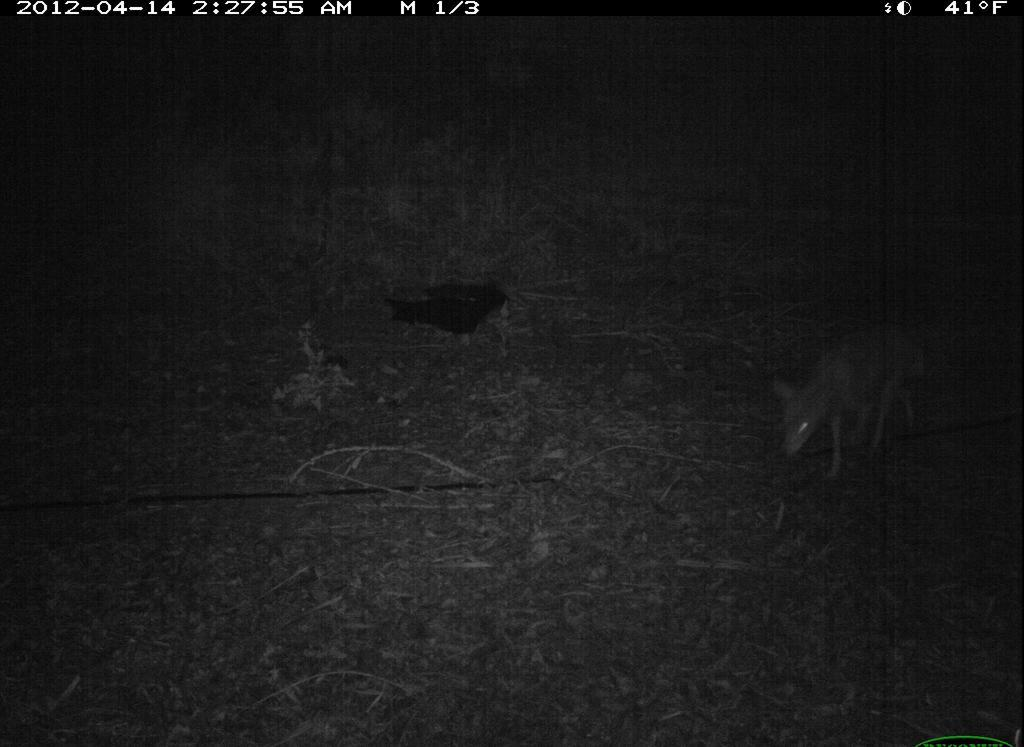coyote: (762, 308, 954, 484)
